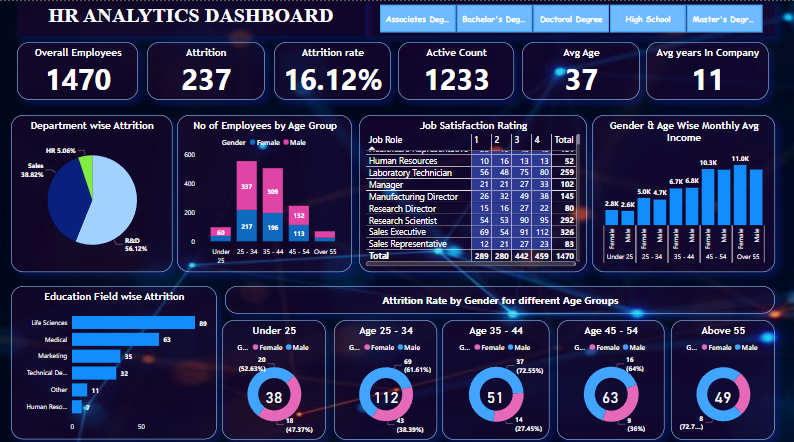

The dashboard page shown, as its layout file describes it:
{"tool":"powerbi","page":{"name":"Page 1","canvas":[1480,820],"ordinal":0},"visuals":[{"type":"card","title":"Overall Employees","fields":{"Values":["Sum(HR data.Employee Count)"]},"box":[37.8,75.7,224.3,106.8],"z":0},{"type":"card","title":"Attrition","fields":{"Values":["Sum(HR data.Attrition Count)"]},"box":[277,75.7,217.6,106.8],"z":1000},{"type":"card","title":"Attrition rate ","fields":{"Values":["HR data.Attrition rate"]},"box":[513.5,75.7,216.2,106.8],"z":2000},{"type":"card","title":"Active Count","fields":{"Values":["HR data.Active Count"]},"box":[741.9,75.7,214.9,106.8],"z":3000},{"type":"card","title":"Avg years In Company","fields":{"Values":["Avg(HR data.Total Working Years)"]},"box":[1202.7,75.7,227,106.8],"z":4000},{"type":"pieChart","title":" Department wise Attrition","fields":{"Category":["HR data.Department"],"Y":["Sum(HR data.Attrition Count)"]},"box":[25.7,210.8,298.6,290.5],"z":5000},{"type":"columnChart","title":"No of Employees by  Age  Group","fields":{"Category":["HR data.CF_age band"],"Y":["Sum(HR data.Employee Count)"],"Series":["HR data.Gender"]},"box":[332.4,210.8,324.3,290.5],"z":6000},{"type":"pivotTable","title":"Job Satisfaction Rating","fields":{"Rows":["HR data.Job Role"],"Columns":["HR data.Job Satisfaction"],"Values":["Sum(HR data.Employee Count)"]},"box":[670.3,210.8,421.6,290.5],"z":7000},{"type":"clusteredBarChart","title":"Education Field wise Attrition","fields":{"Category":["HR data.Education Field"],"Y":["Sum(HR data.Attrition Count)"]},"box":[25.7,528.4,381.1,283.8],"z":8000},{"type":"donutChart","title":"Under 25","fields":{"Category":["HR data.Gender"],"Y":["Sum(HR data.Attrition Count)"],"Series":["HR data.CF_age band"]},"box":[417.6,590.5,191.9,221.6],"z":9000},{"type":"textbox","box":[423,528.4,1017.6,51.4],"z":10000},{"type":"donutChart","title":"Age 25 - 34","fields":{"Category":["HR data.Gender"],"Y":["Sum(HR data.Attrition Count)"],"Series":["HR data.CF_age band"]},"box":[624.3,590.5,190.5,221.6],"z":11000},{"type":"donutChart","title":"Age 35 - 44","fields":{"Category":["HR data.Gender"],"Y":["Sum(HR data.Attrition Count)"],"Series":["HR data.CF_age band"]},"box":[824.3,590.5,198.6,221.6],"z":12000},{"type":"donutChart","title":"Age 45 - 54","fields":{"Category":["HR data.Gender"],"Y":["Sum(HR data.Attrition Count)"],"Series":["HR data.CF_age band"]},"box":[1036.5,590.5,198.6,221.6],"z":13000},{"type":"donutChart","title":"Above 55","fields":{"Category":["HR data.Gender"],"Y":["Sum(HR data.Attrition Count)"],"Series":["HR data.CF_age band"]},"box":[1248.6,590.5,191.9,221.6],"z":14000},{"type":"card","fields":{"Values":["Sum(HR data.Attrition Count)"]},"box":[463.5,701.4,100,60.8],"z":15000},{"type":"card","fields":{"Values":["Sum(HR data.Attrition Count)"]},"box":[670.3,701.4,100,60.8],"z":16000},{"type":"card","fields":{"Values":["Sum(HR data.Attrition Count)"]},"box":[871.6,701.4,100,60.8],"z":17000},{"type":"card","fields":{"Values":["Sum(HR data.Attrition Count)"]},"box":[1036.5,701.4,197.3,60.8],"z":18000},{"type":"card","fields":{"Values":["Sum(HR data.Attrition Count)"]},"box":[1294.6,701.4,100,60.8],"z":19000},{"type":"card","title":"Avg Age","fields":{"Values":["Avg(HR data.Age)"]},"box":[971.6,75.7,217.6,106.8],"z":20000},{"type":"clusteredColumnChart","title":"Gender & Age Wise Monthly Avg Income","fields":{"Y":["Avg(HR data.Monthly Income)"],"Category":["HR data.CF_age band","HR data.Gender"]},"box":[1101.4,210.8,339.2,290.5],"z":21000},{"type":"textbox","box":[37.8,0,644.6,64.9],"z":22000},{"type":"slicer","fields":{"Values":["HR data.Education"]},"box":[682.4,0,758.1,64.9],"z":23000}]}

Visuals, with their boxes in screenshot pixels (x1, y1, x2, y2), scaled from the page's 1480x820 canvas onto the 794x442 screenshot:
"Overall Employees" card: (x1=20, y1=41, x2=141, y2=98)
"Attrition" card: (x1=149, y1=41, x2=265, y2=98)
"Attrition rate " card: (x1=275, y1=41, x2=391, y2=98)
"Active Count" card: (x1=398, y1=41, x2=513, y2=98)
"Avg years In Company" card: (x1=645, y1=41, x2=767, y2=98)
" Department wise Attrition" pieChart: (x1=14, y1=114, x2=174, y2=270)
"No of Employees by  Age  Group" columnChart: (x1=178, y1=114, x2=352, y2=270)
"Job Satisfaction Rating" pivotTable: (x1=360, y1=114, x2=586, y2=270)
"Education Field wise Attrition" clusteredBarChart: (x1=14, y1=285, x2=218, y2=438)
"Under 25" donutChart: (x1=224, y1=318, x2=327, y2=438)
textbox: (x1=227, y1=285, x2=773, y2=313)
"Age 25 - 34" donutChart: (x1=335, y1=318, x2=437, y2=438)
"Age 35 - 44" donutChart: (x1=442, y1=318, x2=549, y2=438)
"Age 45 - 54" donutChart: (x1=556, y1=318, x2=663, y2=438)
"Above 55" donutChart: (x1=670, y1=318, x2=773, y2=438)
card - Sum(HR data.Attrition Count): (x1=249, y1=378, x2=302, y2=411)
card - Sum(HR data.Attrition Count): (x1=360, y1=378, x2=413, y2=411)
card - Sum(HR data.Attrition Count): (x1=468, y1=378, x2=521, y2=411)
card - Sum(HR data.Attrition Count): (x1=556, y1=378, x2=662, y2=411)
card - Sum(HR data.Attrition Count): (x1=695, y1=378, x2=748, y2=411)
"Avg Age" card: (x1=521, y1=41, x2=638, y2=98)
"Gender & Age Wise Monthly Avg Income" clusteredColumnChart: (x1=591, y1=114, x2=773, y2=270)
textbox: (x1=20, y1=0, x2=366, y2=35)
slicer - HR data.Education: (x1=366, y1=0, x2=773, y2=35)
